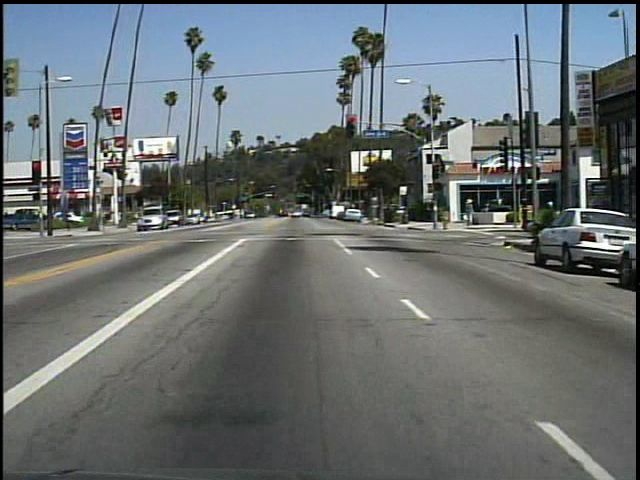person: (539, 194, 562, 235), (461, 194, 477, 227)
